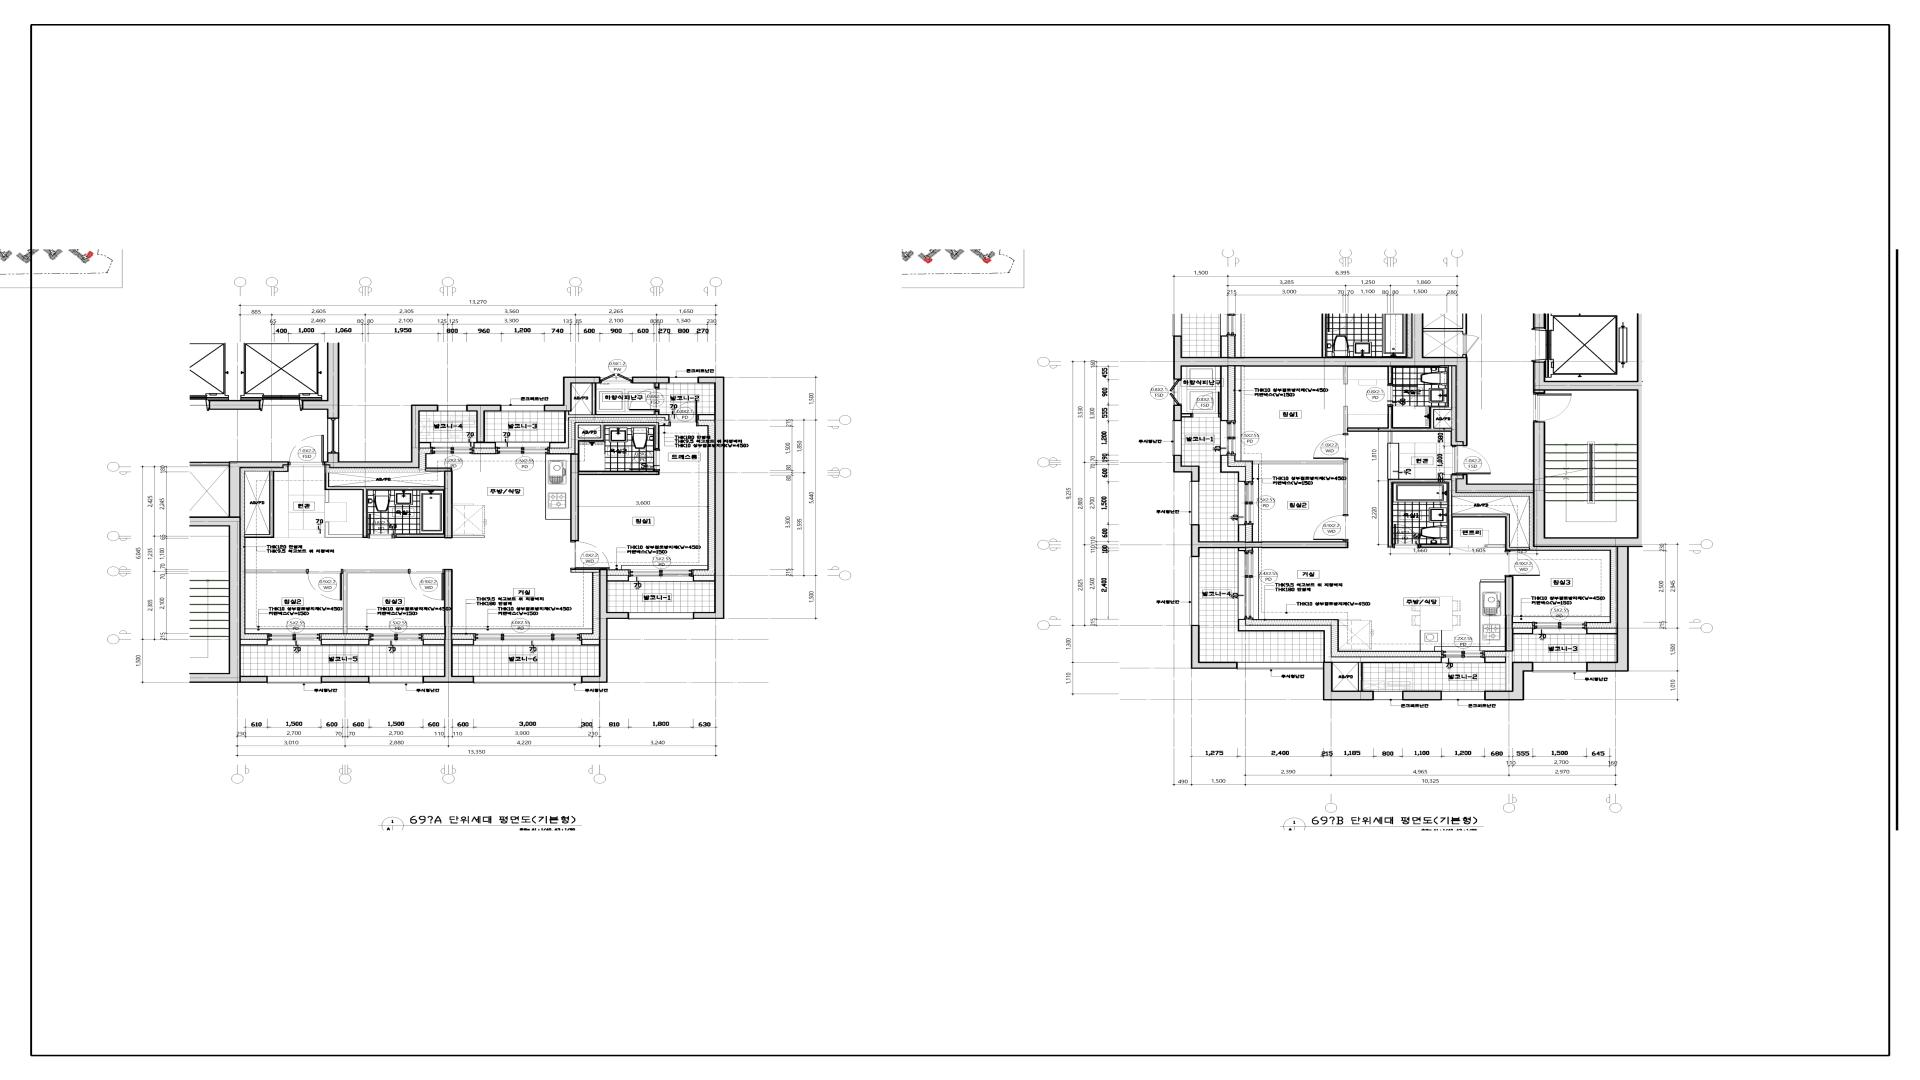door: (306, 568, 343, 601), (570, 541, 611, 570), (407, 568, 444, 600), (1452, 446, 1491, 475), (1534, 393, 1573, 421), (289, 435, 324, 465), (1312, 434, 1349, 460), (1312, 514, 1349, 541), (1505, 551, 1540, 576), (670, 400, 699, 426), (1191, 392, 1220, 418), (629, 450, 661, 471), (1394, 524, 1420, 549), (368, 514, 396, 538), (1387, 385, 1418, 406), (1453, 545, 1485, 551)
wall: (1455, 421, 1629, 671), (1174, 357, 1468, 446), (1238, 620, 1441, 691), (228, 462, 289, 683), (324, 467, 485, 538), (570, 422, 659, 541), (1387, 479, 1530, 551), (1344, 367, 1452, 443), (550, 384, 670, 448), (694, 377, 725, 618), (324, 405, 438, 468), (423, 570, 473, 683), (1485, 576, 1532, 691), (582, 570, 628, 683), (1253, 460, 1348, 514), (1191, 525, 1349, 556), (343, 570, 407, 633), (302, 343, 340, 418), (1191, 625, 1237, 669), (245, 471, 274, 538), (543, 377, 600, 411), (1323, 663, 1374, 700), (1485, 662, 1532, 700), (467, 405, 501, 442), (1174, 455, 1200, 481), (1220, 455, 1246, 481), (210, 400, 260, 410), (1220, 367, 1229, 421), (322, 638, 369, 646), (1402, 691, 1441, 700), (322, 676, 369, 683), (245, 570, 306, 574), (633, 377, 669, 384), (241, 638, 268, 646), (1588, 628, 1617, 634), (423, 638, 444, 646), (452, 638, 473, 646), (473, 442, 496, 448), (608, 575, 629, 582), (694, 575, 715, 582), (582, 638, 599, 646), (1238, 525, 1246, 542), (1174, 405, 1182, 421), (698, 414, 715, 421), (1387, 367, 1393, 384), (419, 442, 431, 448), (1344, 367, 1348, 385), (571, 570, 599, 572), (1182, 413, 1191, 418), (1238, 549, 1246, 551), (655, 384, 659, 388)
window: (473, 633, 582, 646), (1238, 551, 1254, 620), (629, 570, 694, 582), (1532, 621, 1588, 634), (1189, 556, 1200, 625), (473, 676, 582, 683), (268, 633, 322, 646), (369, 633, 423, 646), (1238, 481, 1254, 525), (1237, 662, 1323, 670), (496, 442, 550, 454), (1532, 662, 1588, 673), (1441, 650, 1485, 663), (431, 442, 473, 455), (1220, 421, 1236, 455), (629, 612, 694, 620), (1189, 481, 1200, 525), (268, 676, 322, 684), (327, 418, 339, 452), (1441, 691, 1485, 700), (369, 676, 423, 683), (600, 373, 632, 384), (1172, 421, 1182, 455), (1170, 380, 1182, 405), (501, 405, 543, 411), (1374, 691, 1402, 700), (438, 405, 467, 411), (670, 377, 698, 384)
